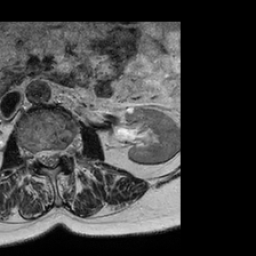CCS_normal: (42, 141, 51, 175)
LFS_normal: (59, 139, 67, 165)
LLS_normal: (51, 142, 59, 171)
RFS_normal: (26, 139, 34, 172)
RLS_normal: (34, 141, 42, 172)
